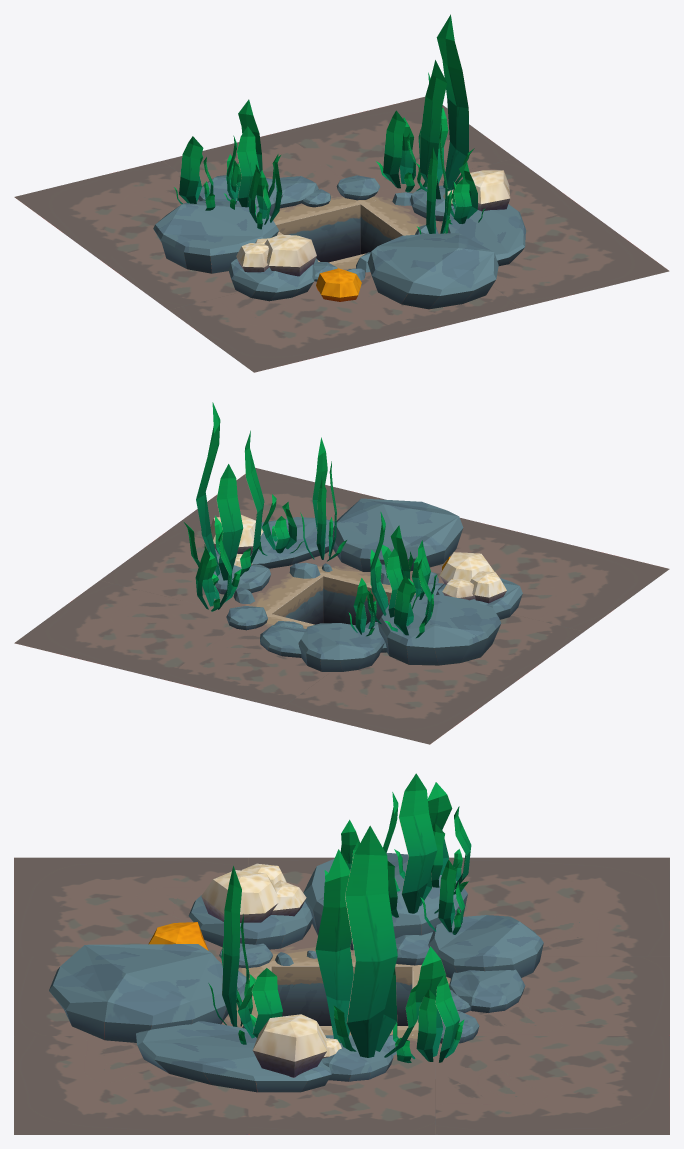
Rendered from TheDeepSea_Scene.fbx.
3 views of the same model, one above another, from view 1: azimuth 30°, elevation 25°; view 2: azimuth 150°, elevation 25°; view 3: azimuth 270°, elevation 25° (orthographic). The views are drawn at different scales.
Parts seen in each view (by area): view 1: TheDeepSea_Scene; view 2: TheDeepSea_Scene; view 3: TheDeepSea_Scene.
Boxes of the visible parts, box(x1,y1,x2,y2) form: TheDeepSea_Scene: box(14, 14, 669, 372); TheDeepSea_Scene: box(14, 402, 669, 744); TheDeepSea_Scene: box(14, 773, 669, 1134).
Size of the model in its own units: 2800 by 1579 by 2800.
